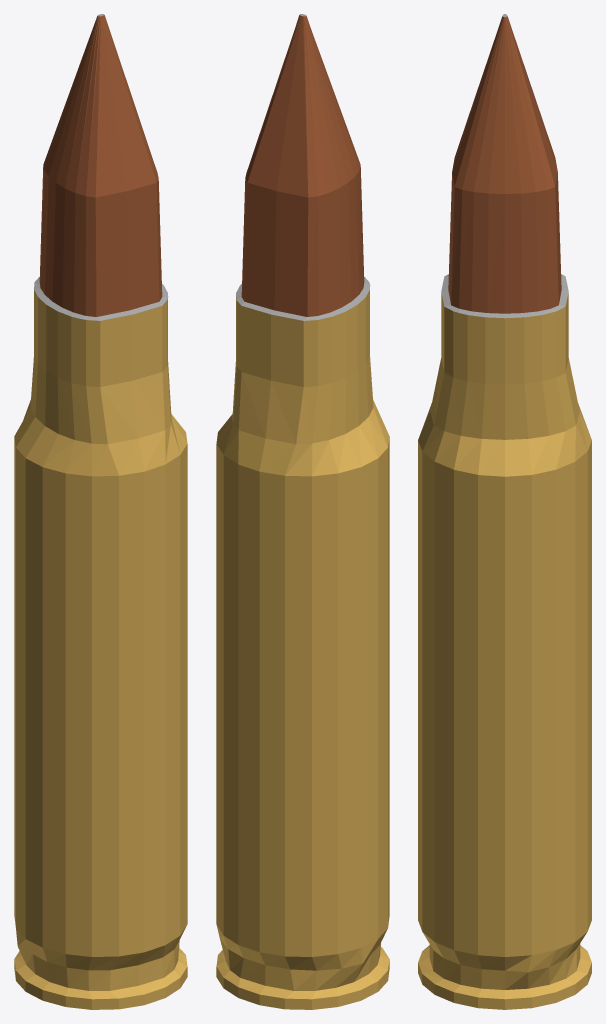
The model's file is Bullett.fbx.
The picture shows the model from 3 angles, left to right: view 1: azimuth 30°, elevation 25°; view 2: azimuth 150°, elevation 25°; view 3: azimuth 270°, elevation 25°; orthographic projection.
Visible parts, largest first — view 1: pCylinder1; view 2: pCylinder1; view 3: pCylinder1.
Part boxes in pixels (x1,y1,x2,y2): pCylinder1: [14, 14, 187, 1009]; pCylinder1: [216, 14, 389, 1009]; pCylinder1: [418, 14, 591, 1009].
Size of the model in its own units: 4.76 by 29.04 by 4.76.
3 materials, 2 textured.
